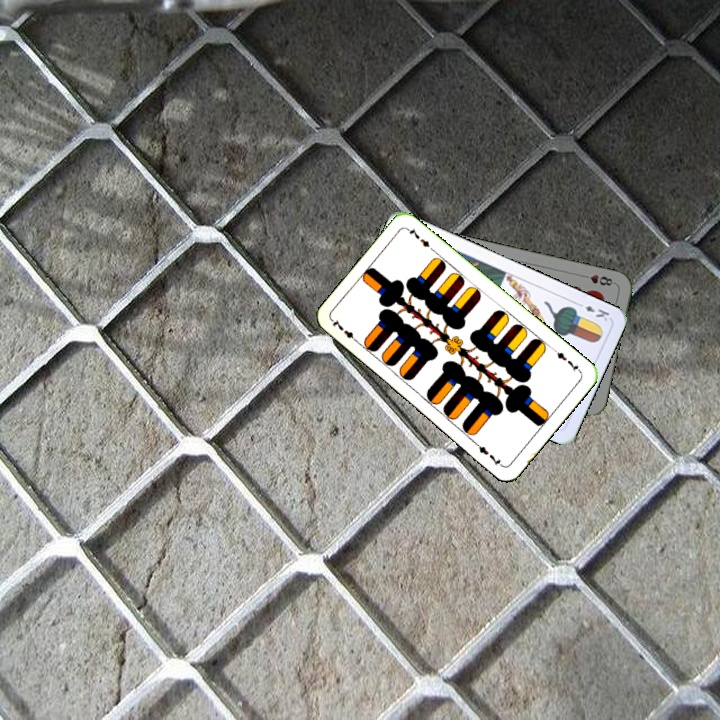E7: (328, 315, 362, 347), (549, 345, 584, 375)
EK: (573, 298, 612, 324)
H8: (577, 270, 618, 288)
